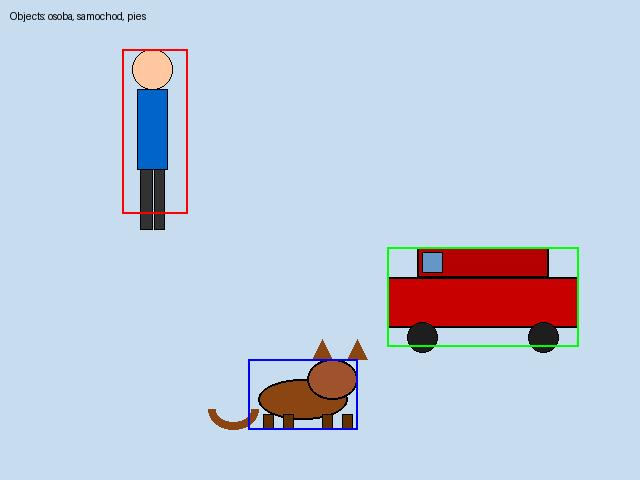osoba: (122, 49, 187, 213)
pies: (248, 359, 357, 429)
samochod: (387, 247, 578, 346)
